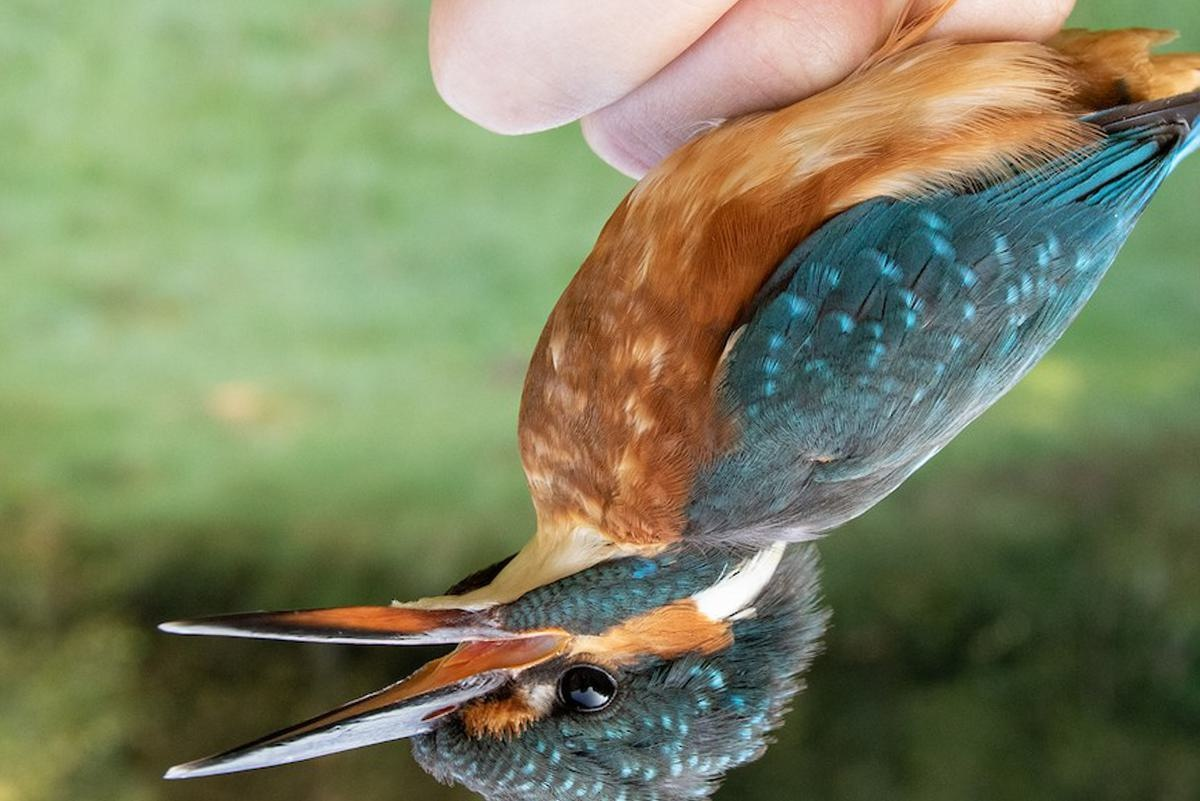kingfisher: (148, 22, 1200, 796)
